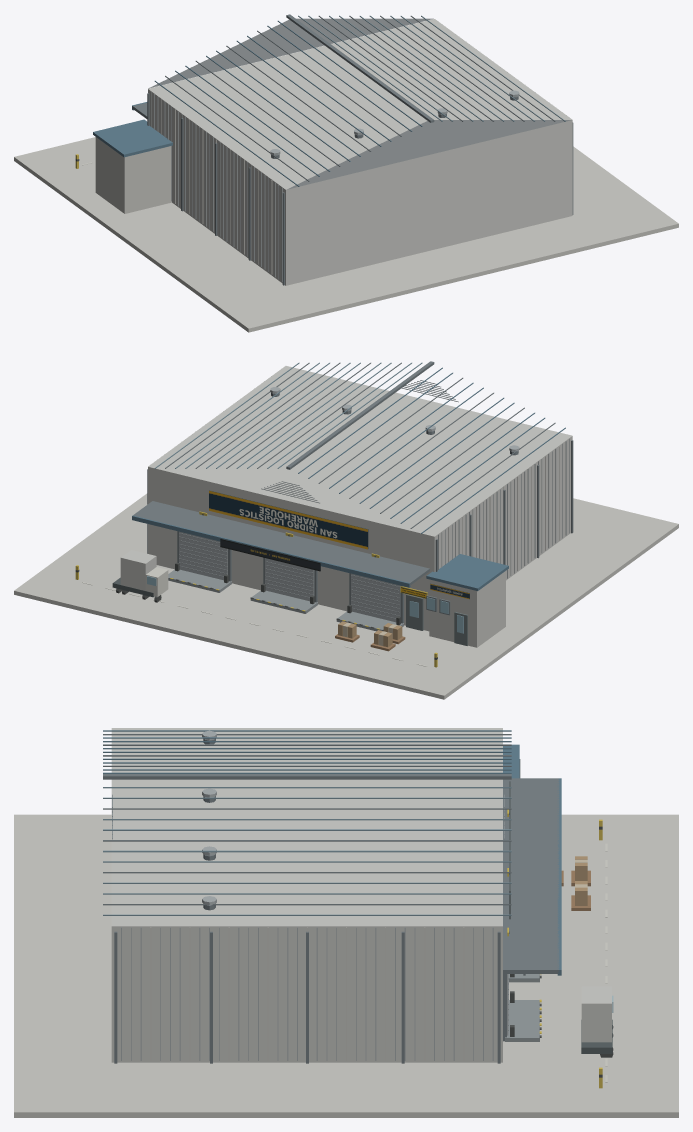
Rendered from San_Isidro_Logistics_Warehouse.glb.
3 renders of one model, top to bottom at view 1: azimuth 30°, elevation 25°; view 2: azimuth 150°, elevation 25°; view 3: azimuth 270°, elevation 25°, orthographic. The views are drawn at different scales.
Parts seen in each view (by area): view 1: 0002_Main_Warehouse_Walls, 0001_Warehouse_Concrete_Yard, 0101_Warehouse_Gable_End, 0091_Warehouse_Gable_End, 0241_Warehouse_Office, 0242_Office_Roof, 0139_Warehouse_Gable_Roof_RidgeCap; view 2: 0002_Main_Warehouse_Walls, 0001_Warehouse_Concrete_Yard, 0230_Loading_Canopy, 0241_Warehouse_Office, 0238_Warehouse_Main_Sign_TexturedFace, 0141_Rollup_Door, 0201_Rollup_Door, 0242_Office_Roof, 0171_Rollup_Door, 0231_Canopy_Fascia, 0296_Delivery_Truck_Cargo, 0139_Warehouse_Gable_Roof_RidgeCap (+5 smaller); view 3: 0002_Main_Warehouse_Walls, 0001_Warehouse_Concrete_Yard, 0230_Loading_Canopy, 0139_Warehouse_Gable_Roof_RidgeCap, 0296_Delivery_Truck_Cargo, 0219_Dock_Platform, 0132_Warehouse_Gable_Roof_RoofRib, 0112_Warehouse_Gable_Roof_RoofRib, 0113_Warehouse_Gable_Roof_RoofRib, 0114_Warehouse_Gable_Roof_RoofRib, 0115_Warehouse_Gable_Roof_RoofRib, 0116_Warehouse_Gable_Roof_RoofRib (+21 smaller).
Boxes of the visible parts, bbox=[...] form: 0002_Main_Warehouse_Walls: bbox=[148, 19, 572, 285]; 0001_Warehouse_Concrete_Yard: bbox=[14, 137, 678, 332]; 0101_Warehouse_Gable_End: bbox=[287, 120, 571, 189]; 0091_Warehouse_Gable_End: bbox=[148, 18, 433, 88]; 0241_Warehouse_Office: bbox=[95, 137, 171, 213]; 0242_Office_Roof: bbox=[93, 119, 172, 157]; 0139_Warehouse_Gable_Roof_RidgeCap: bbox=[286, 14, 434, 122]; 0002_Main_Warehouse_Walls: bbox=[148, 366, 572, 631]; 0001_Warehouse_Concrete_Yard: bbox=[14, 493, 678, 699]; 0230_Loading_Canopy: bbox=[133, 501, 429, 585]; 0241_Warehouse_Office: bbox=[429, 571, 505, 647]; 0238_Warehouse_Main_Sign_TexturedFace: bbox=[209, 491, 367, 549]; 0141_Rollup_Door: bbox=[351, 573, 400, 622]; 0201_Rollup_Door: bbox=[179, 531, 227, 580]; 0242_Office_Roof: bbox=[426, 554, 508, 591]; 0171_Rollup_Door: bbox=[265, 558, 314, 601]; 0231_Canopy_Fascia: bbox=[132, 515, 410, 587]; 0296_Delivery_Truck_Cargo: bbox=[120, 550, 156, 590]; 0139_Warehouse_Gable_Roof_RidgeCap: bbox=[286, 361, 434, 469]; 0002_Main_Warehouse_Walls: bbox=[111, 728, 502, 1062]; 0001_Warehouse_Concrete_Yard: bbox=[14, 814, 678, 1117]; 0230_Loading_Canopy: bbox=[503, 778, 559, 973]; 0139_Warehouse_Gable_Roof_RidgeCap: bbox=[103, 774, 511, 779]; 0296_Delivery_Truck_Cargo: bbox=[581, 986, 611, 1042]; 0219_Dock_Platform: bbox=[505, 1000, 539, 1041]; 0132_Warehouse_Gable_Roof_RoofRib: bbox=[103, 850, 511, 852]; 0112_Warehouse_Gable_Roof_RoofRib: bbox=[103, 772, 511, 773]; 0113_Warehouse_Gable_Roof_RoofRib: bbox=[103, 769, 511, 770]; 0114_Warehouse_Gable_Roof_RoofRib: bbox=[103, 765, 511, 766]; 0115_Warehouse_Gable_Roof_RoofRib: bbox=[103, 762, 511, 763]; 0116_Warehouse_Gable_Roof_RoofRib: bbox=[103, 758, 511, 759].
Size of the model in its own units: 36 by 10.94 by 34.
Materials: 4 (4 with a texture image).
